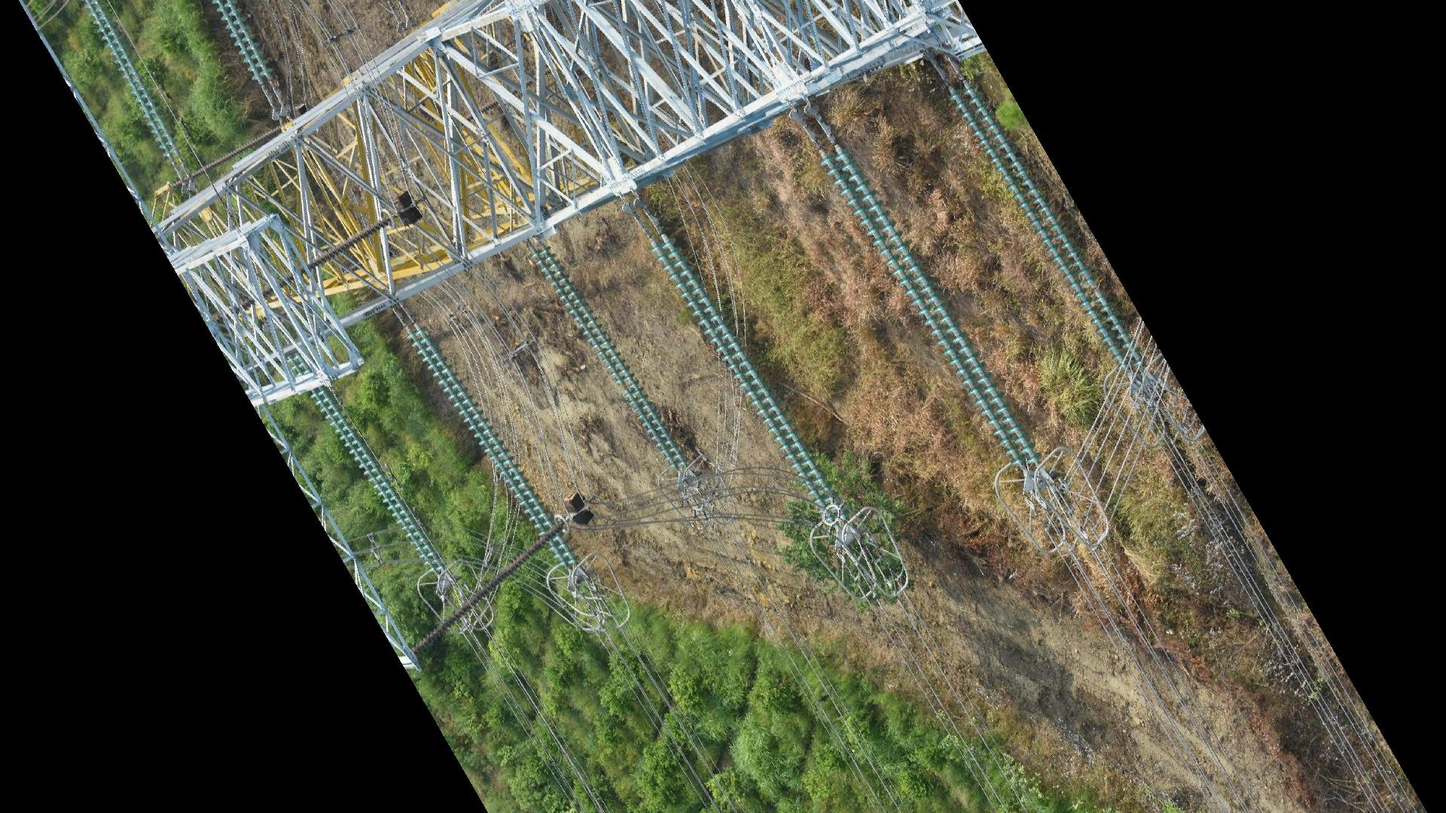insulator: (818, 148, 1046, 470), (648, 235, 852, 525), (945, 82, 1147, 372), (403, 321, 581, 570), (530, 242, 689, 471), (306, 385, 447, 575), (409, 517, 569, 656), (83, 1, 183, 160), (273, 215, 391, 294), (189, 121, 283, 181), (212, 1, 275, 84)
insulator_stringdrop: (1082, 273, 1112, 304), (614, 375, 636, 399)
